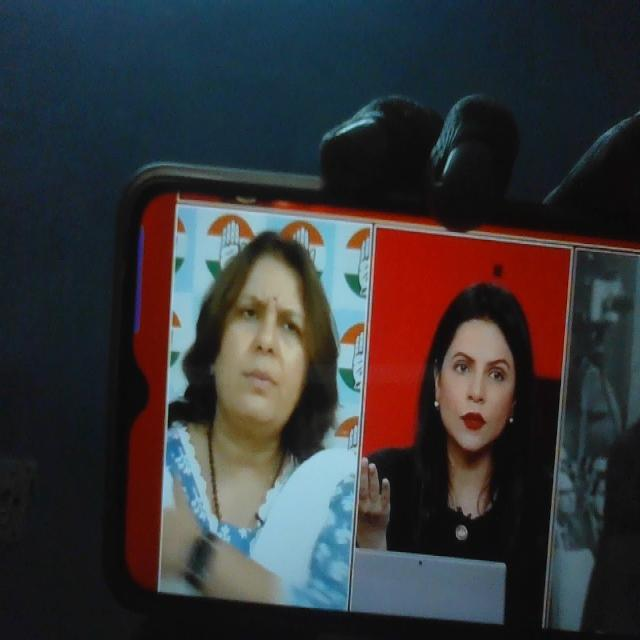fake: (205, 212, 328, 445), (422, 263, 537, 480)
